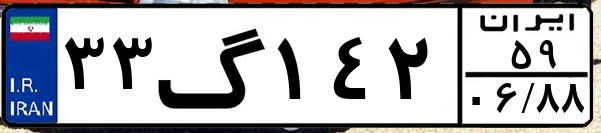0: (470, 70, 495, 125)
1: (270, 28, 330, 110)
2: (385, 28, 445, 110)
3: (57, 26, 110, 100), (110, 28, 156, 98)
4: (330, 28, 385, 110)
5: (508, 27, 537, 80)
6: (495, 70, 520, 125)
8: (560, 70, 590, 125), (535, 70, 560, 125)
9: (537, 27, 568, 80)
گ: (156, 12, 270, 120)
